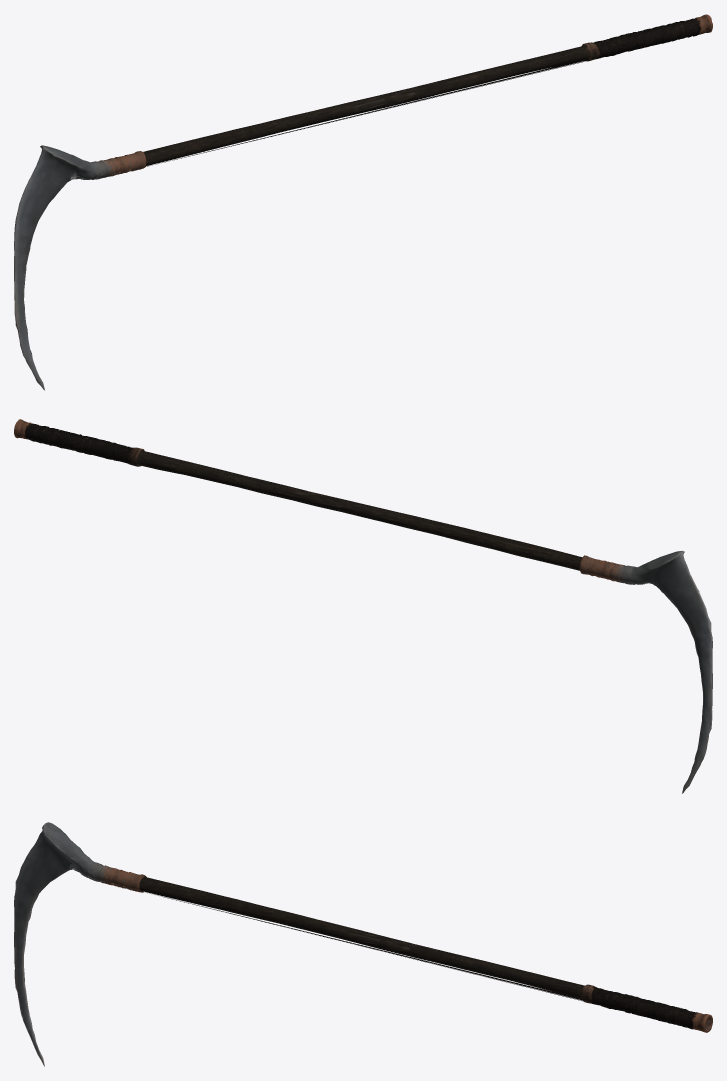
File: scythe.glb
The picture shows the model from 3 angles, top to bottom: view 1: azimuth 30°, elevation 25°; view 2: azimuth 150°, elevation 25°; view 3: azimuth 330°, elevation 25°; orthographic projection.
Visible parts, largest first — view 1: geometry_0; view 2: geometry_0; view 3: geometry_0.
Part boxes in pixels (x1,y1,x2,y2): geometry_0: (14,14,712,390); geometry_0: (14,419,712,793); geometry_0: (14,822,712,1066).
Size of the model in its own units: 1 by 0.3348 by 0.0323.
1 material, 1 textured.
